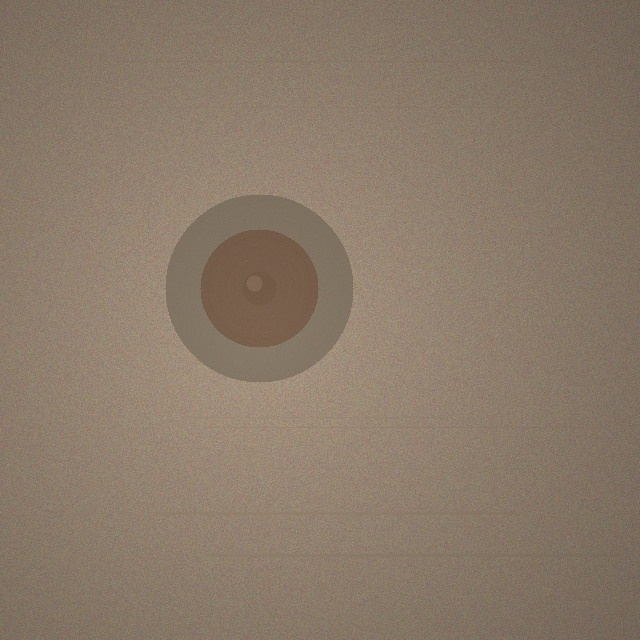good: (165, 194, 353, 382)
